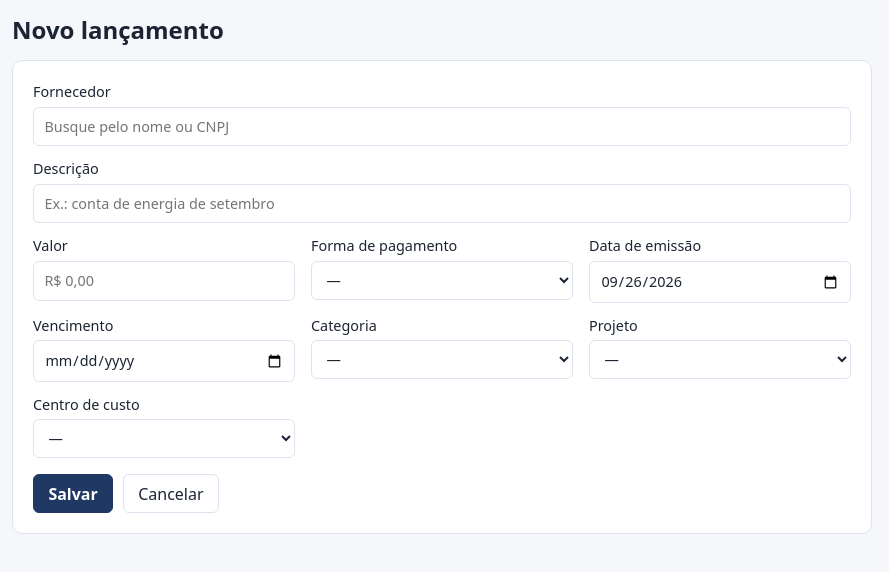
Scenario: LancamentoFormPage › valida valor obrigatório
Click the button "Salvar". click: (73, 494)
box: [33,474,113,513]
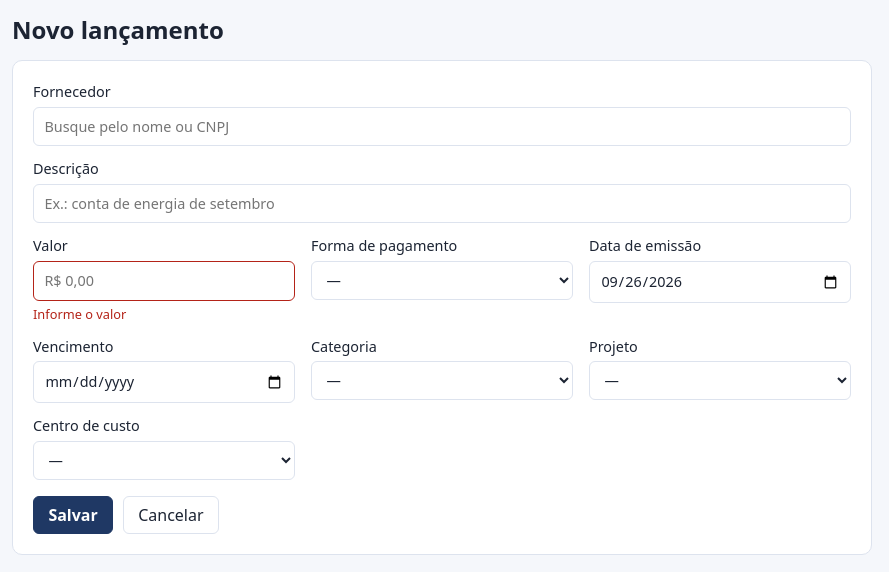
Expected: the text "Informe o valor" is shown, [33,305,126,323]
